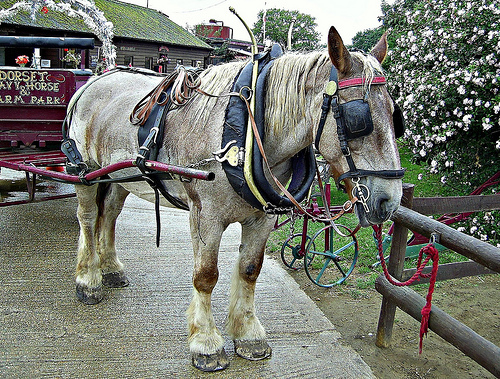horse: (52, 23, 409, 369)
